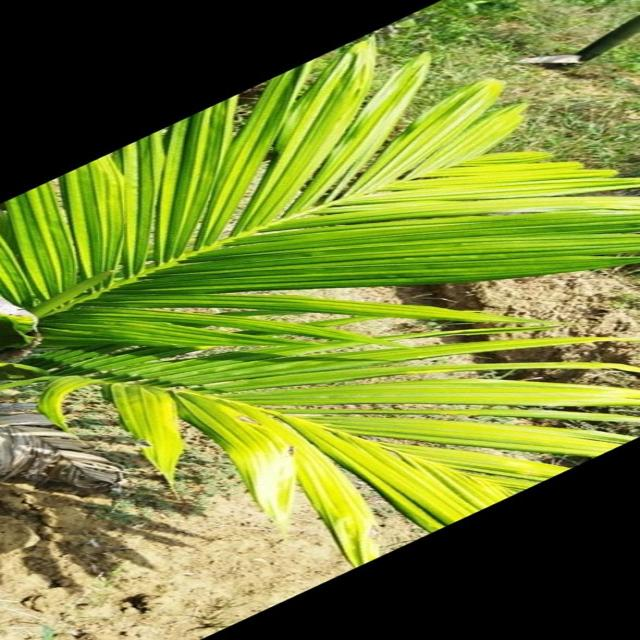Healthy_Leaf: (170, 152, 626, 420)
